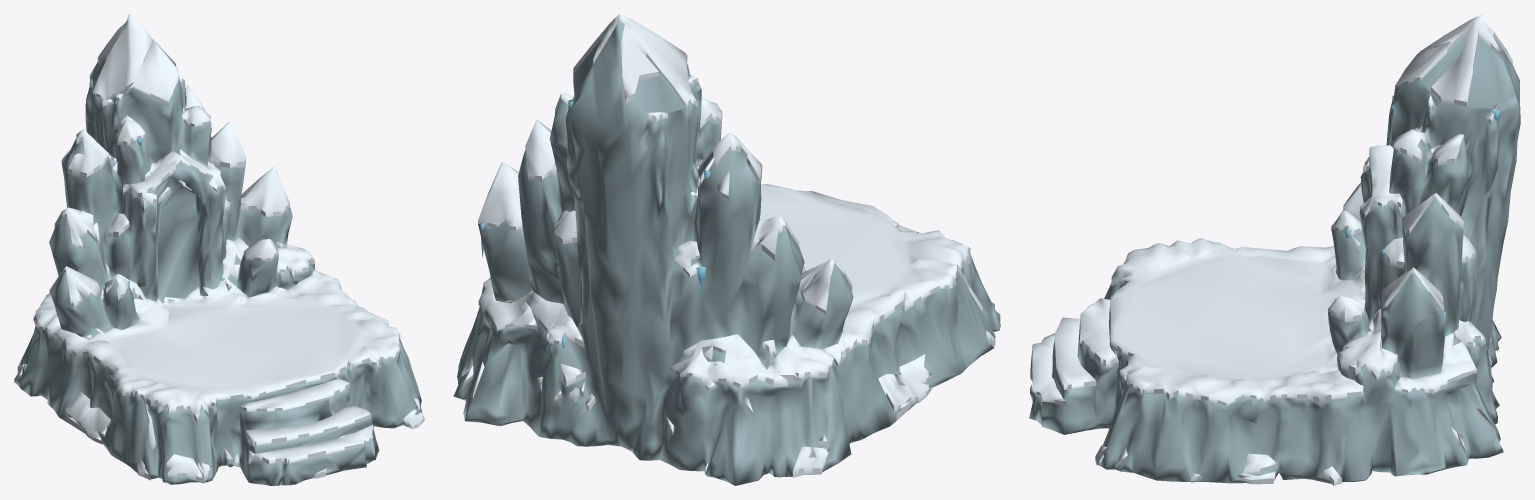
The model's file is BossRoom_FrozenThrone.fbx.
The picture shows the model from 3 angles, left to right: view 1: azimuth 30°, elevation 25°; view 2: azimuth 150°, elevation 25°; view 3: azimuth 270°, elevation 25°; orthographic projection. The views are drawn at different scales.
Parts seen in each view (by area): view 1: BossRoom_FrozenThrone_LOD0; view 2: BossRoom_FrozenThrone_LOD0; view 3: BossRoom_FrozenThrone_LOD0.
Boxes of the visible parts, x1,y1,x2,y2 form: BossRoom_FrozenThrone_LOD0: [14, 14, 424, 485]; BossRoom_FrozenThrone_LOD0: [453, 14, 1000, 485]; BossRoom_FrozenThrone_LOD0: [1029, 14, 1520, 485].
Size of what is drawn, in the model's own units: 4.9 by 5.24 by 6.
